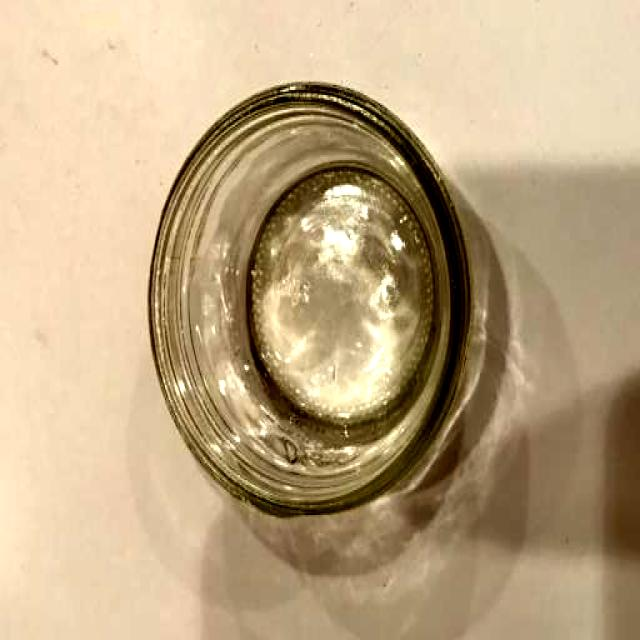Glass: (141, 76, 478, 528)
